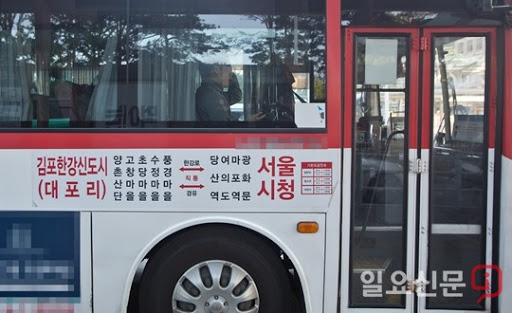entrance: (345, 25, 502, 313)
